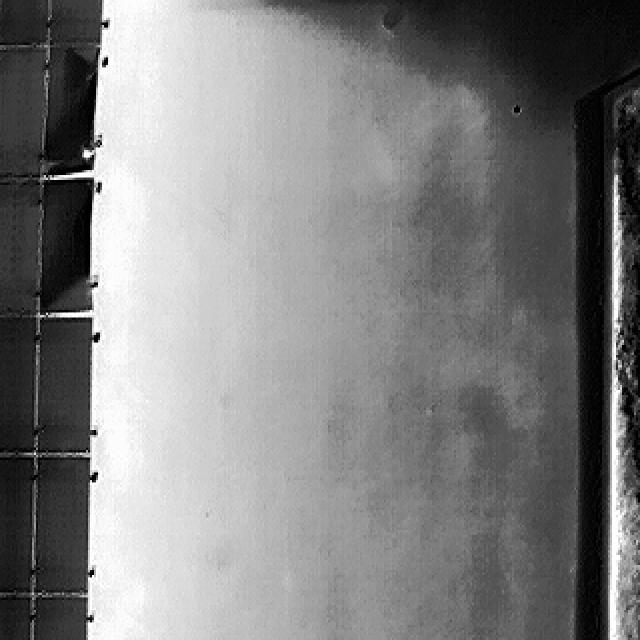PV-modules: (28, 461, 88, 601), (33, 320, 91, 460), (36, 182, 91, 321), (47, 43, 101, 175), (0, 49, 44, 184), (0, 178, 39, 315), (0, 315, 37, 456), (1, 462, 36, 602), (49, 0, 108, 46), (28, 600, 86, 640), (0, 0, 47, 47), (0, 600, 32, 640)
